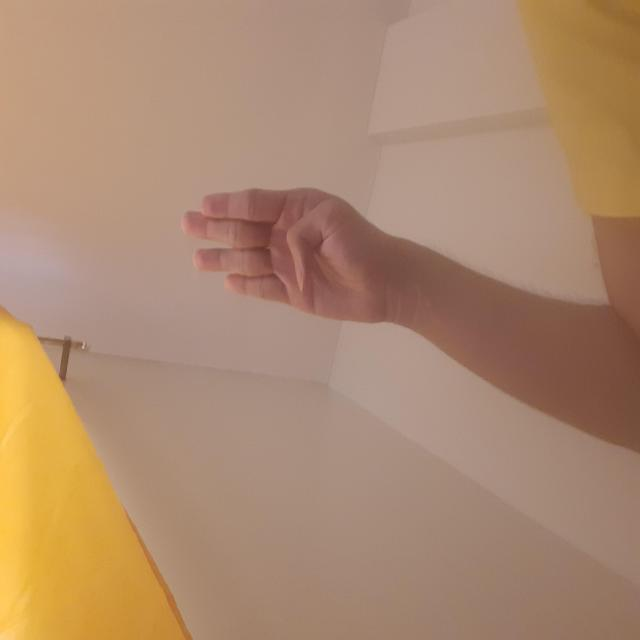B: (316, 182, 454, 374)
